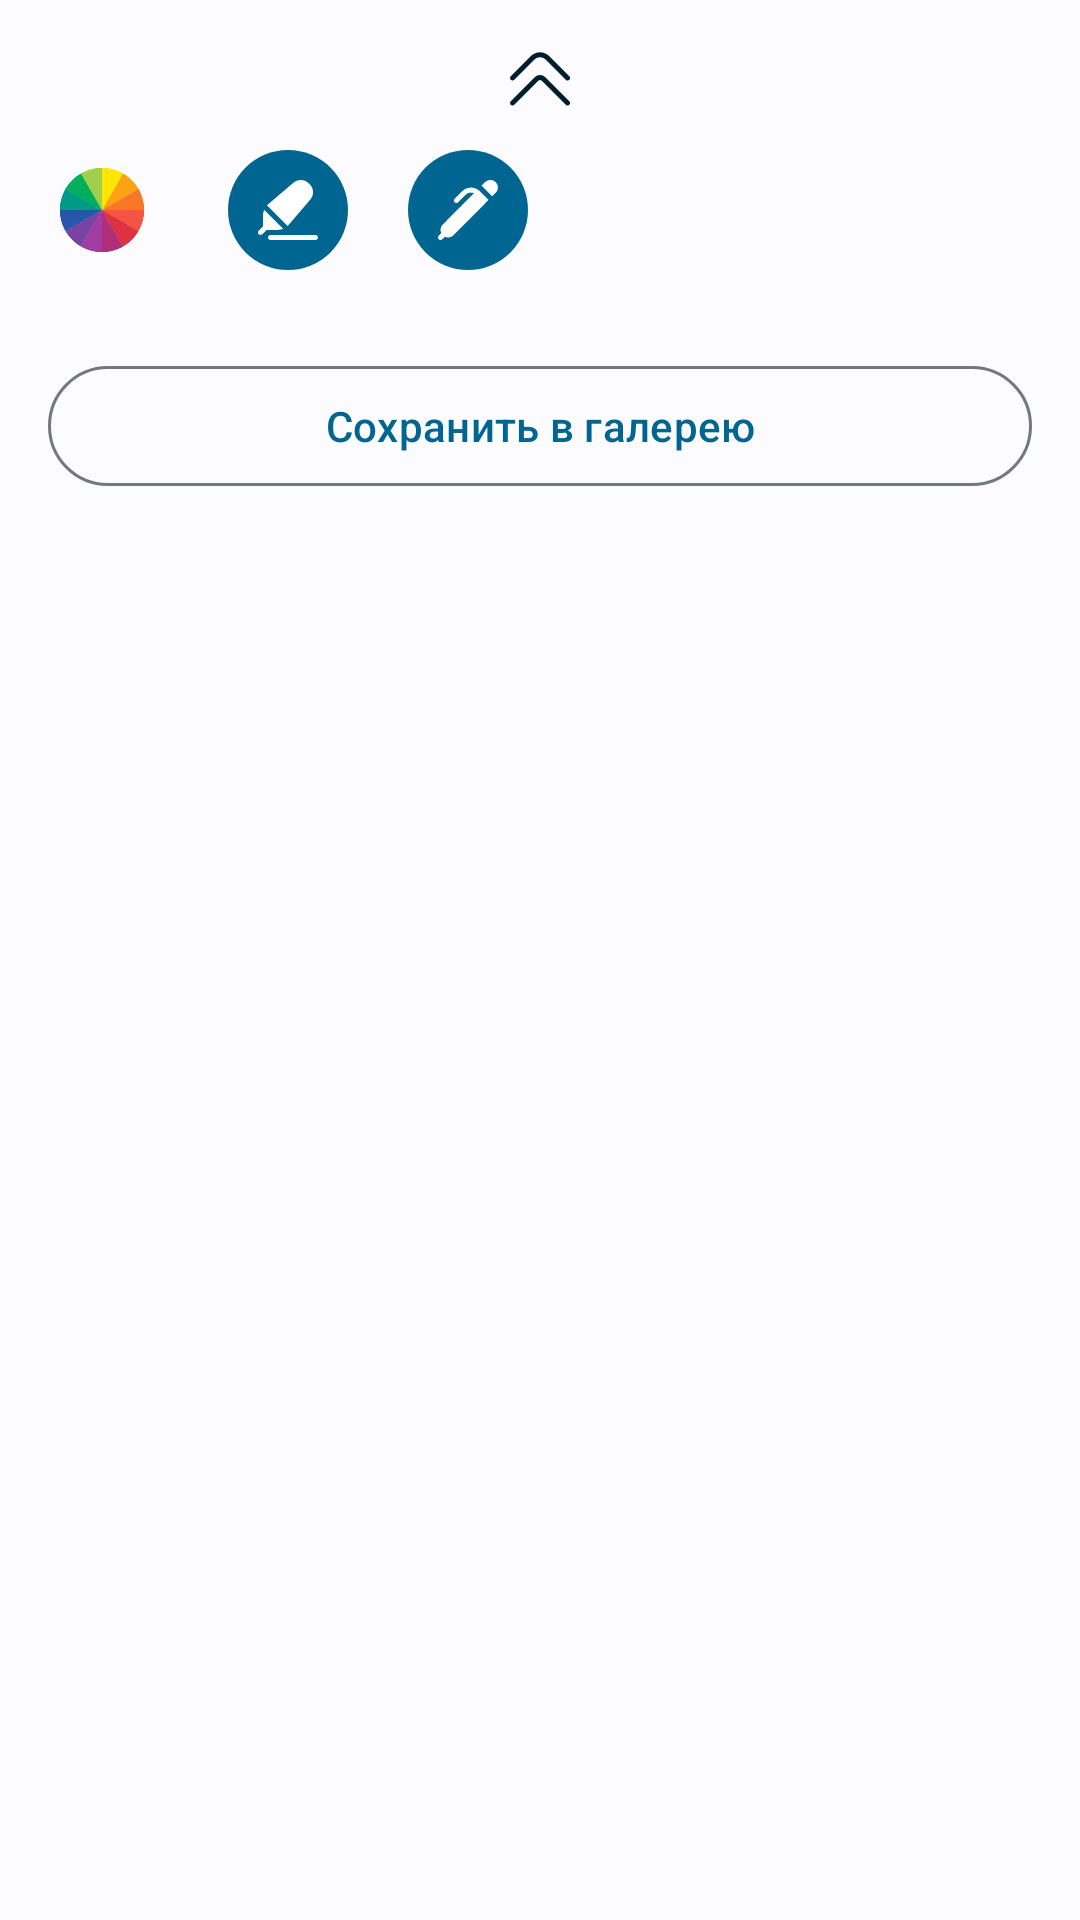

Icon click points for this 1080px×1920px phone screenshot, format (x=x, y=y):
chevron double up: (x=540, y=79)
marker: (x=288, y=210)
pen: (x=468, y=210)
wheel: (x=102, y=210)
